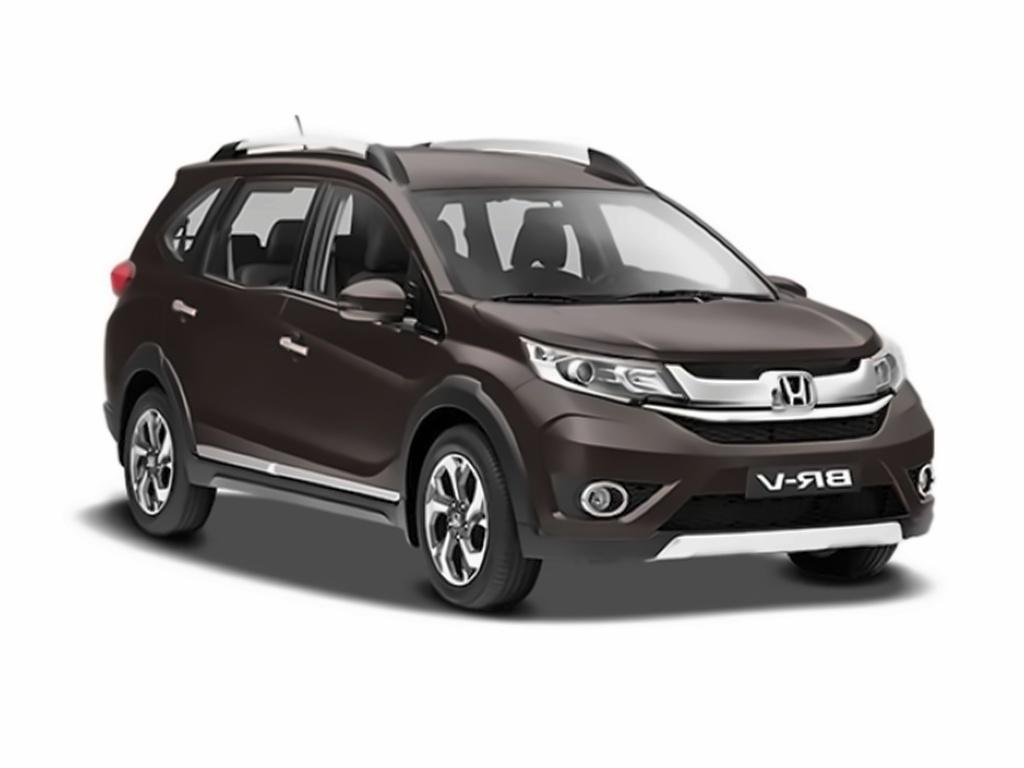Car hood: (450, 285, 901, 374)
Driver-s door - -F-R-: (246, 124, 446, 481)
Fender - -F-R-: (404, 271, 529, 516)
Front bumper: (505, 471, 950, 571)
Headlight - -L-: (863, 338, 909, 398)
Headlight - -R-: (516, 334, 685, 405)
Passenger-s door - -R-R-: (164, 123, 318, 486)
Rear bumper: (81, 304, 139, 450)
Rear light - -R-: (101, 261, 142, 301)
Side bumper - -R-: (160, 420, 402, 536)
Side mirror - -L-: (758, 271, 811, 304)
Side mirror - -R-: (334, 273, 411, 330)
